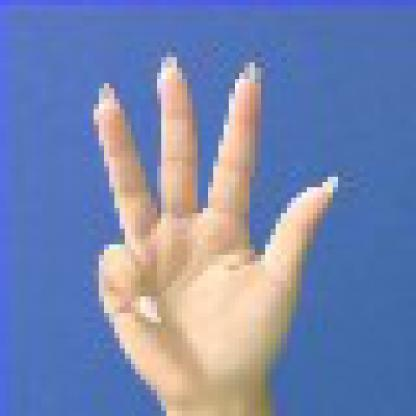nine: (52, 36, 369, 411)
